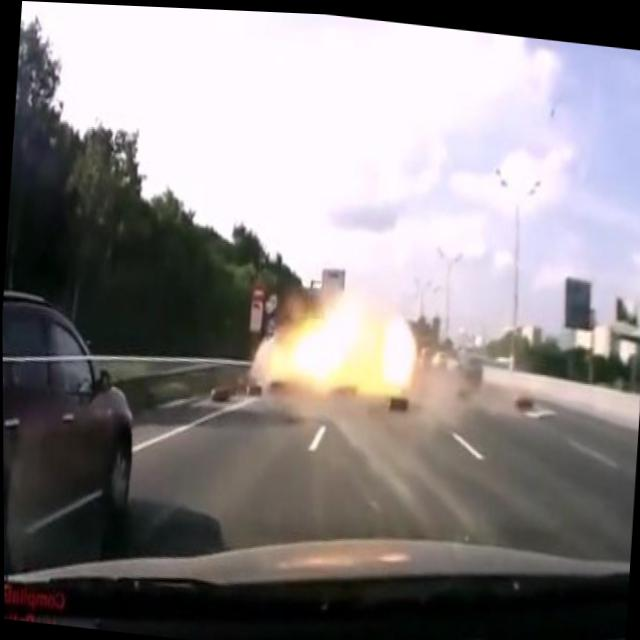fire: (261, 274, 427, 406)
